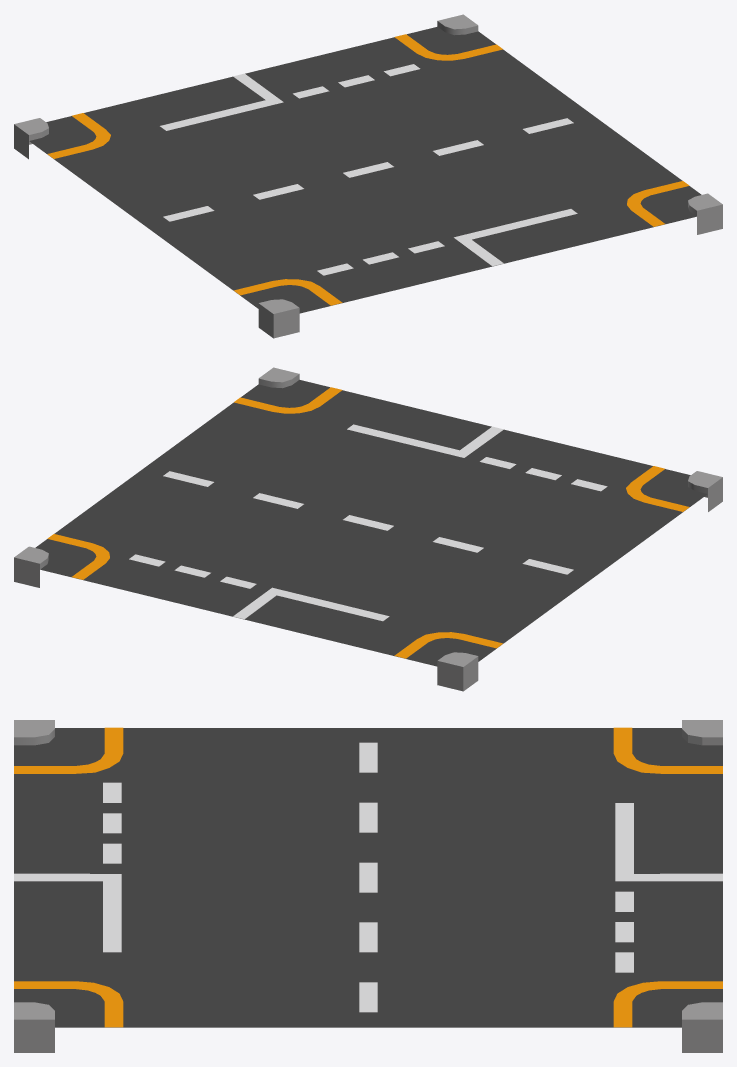
Rendered from Road_A_7.glb.
The picture shows the model from 3 angles, top to bottom: view 1: azimuth 30°, elevation 25°; view 2: azimuth 150°, elevation 25°; view 3: azimuth 270°, elevation 25°; orthographic projection. The views are drawn at different scales.
Parts seen in each view (by area): view 1: Road_A_7; view 2: Road_A_7; view 3: Road_A_7.
Boxes of the visible parts, x1,y1,x2,y2 form: Road_A_7: [14, 14, 722, 338]; Road_A_7: [14, 367, 722, 691]; Road_A_7: [14, 720, 722, 1052].
Bounding box in the file's own units: 8 × 0.4148 × 8.
Materials: 1 (1 with a texture image).
